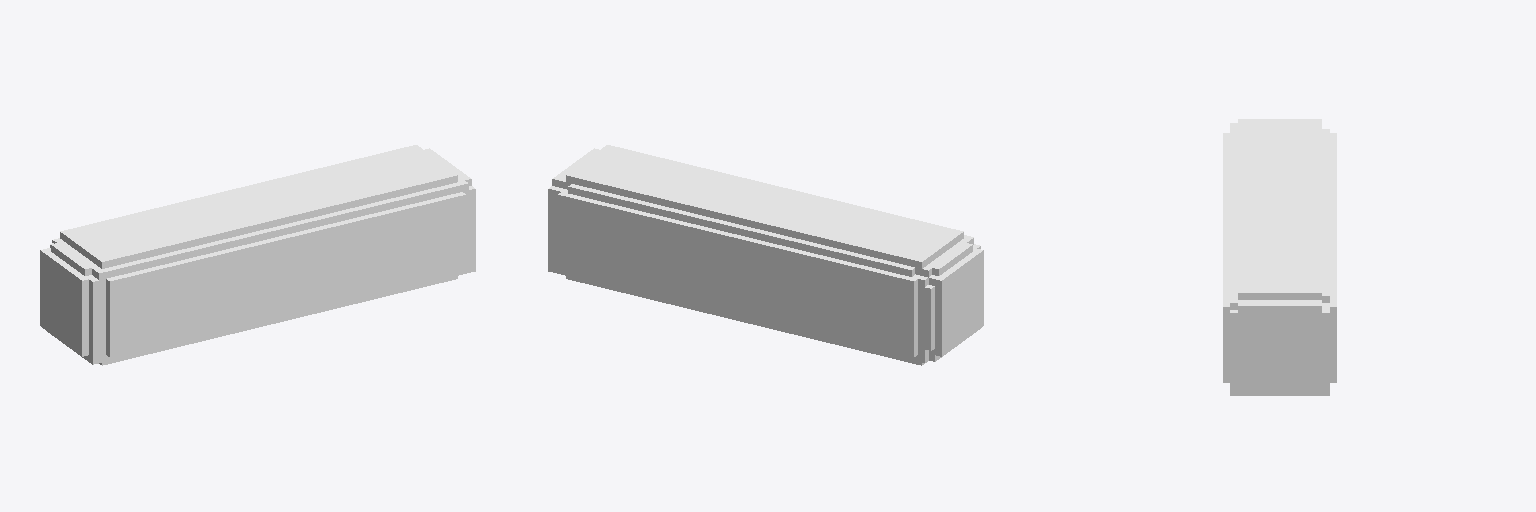
Rendered from StoneCannon-1-Barrel.obj.
The picture shows the model from 3 angles: view 1: azimuth 30°, elevation 25°; view 2: azimuth 150°, elevation 25°; view 3: azimuth 270°, elevation 25°; orthographic projection.
Parts seen in each view (by area): view 1: Barrel; view 2: Barrel; view 3: Barrel.
Boxes of the visible parts, x1=… form: Barrel: x1=40, y1=145, x2=475, y2=365; Barrel: x1=548, y1=145, x2=983, y2=365; Barrel: x1=1223, y1=119, x2=1336, y2=395.
Size of the model in its own units: 11.8 by 3 by 3.